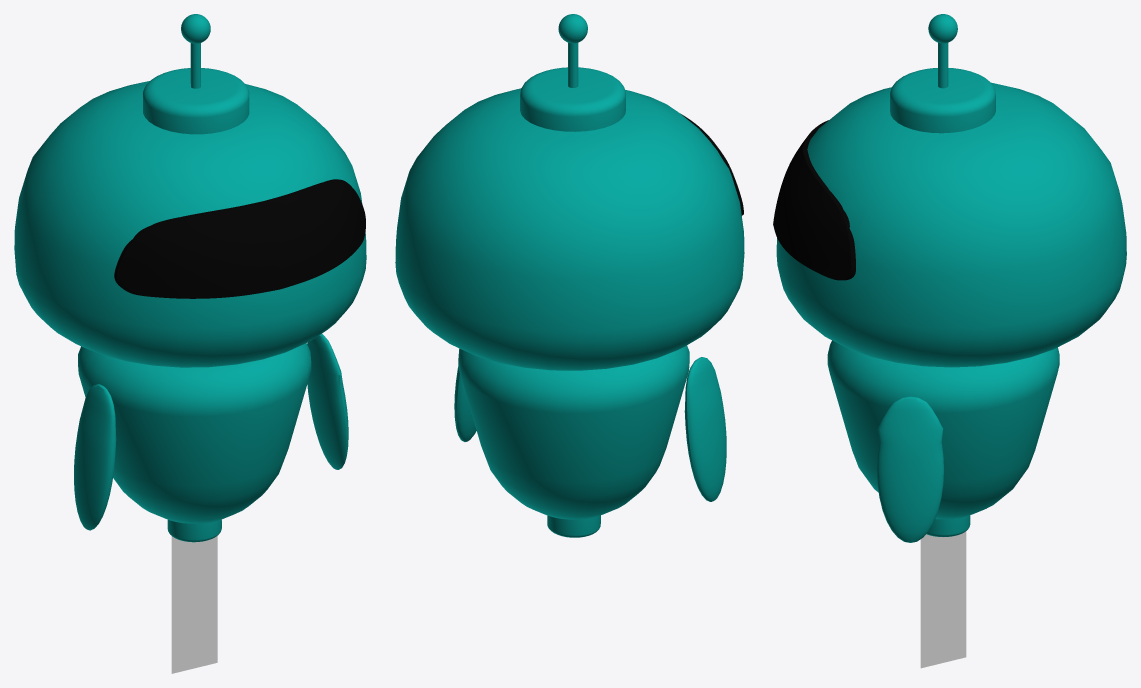
The model's file is cleaned_beepie_animated.glb.
The picture shows the model from 3 angles, left to right: view 1: azimuth 30°, elevation 25°; view 2: azimuth 150°, elevation 25°; view 3: azimuth 270°, elevation 25°; orthographic projection.
Visible parts, largest first — view 1: Sphere.002, Cylinder.004, display_glass, thruster_plane_1, Sphere.005, Sphere.001, Sphere.003, Sphere.007, Sphere.009; view 2: Sphere.002, Cylinder.004, Sphere.005, Sphere.001, Sphere.007, Sphere.003, Sphere.009; view 3: Sphere.002, Cylinder.004, Sphere.003, display_glass, thruster_plane_3, Sphere.005, Sphere.007, Sphere.009.
Part boxes in pixels (<box>): Sphere.002: <box>14,81,366,367</box>; Cylinder.004: <box>78,343,311,523</box>; display_glass: <box>114,179,365,298</box>; thruster_plane_1: <box>171,536,217,673</box>; Sphere.005: <box>142,68,249,134</box>; Sphere.001: <box>74,384,116,530</box>; Sphere.003: <box>307,334,348,469</box>; Sphere.007: <box>181,14,210,88</box>; Sphere.009: <box>167,519,221,542</box>; Sphere.002: <box>395,88,744,370</box>; Cylinder.004: <box>458,345,689,519</box>; Sphere.005: <box>520,67,625,131</box>; Sphere.001: <box>684,357,726,501</box>; Sphere.007: <box>558,14,587,87</box>; Sphere.003: <box>454,367,476,441</box>; Sphere.009: <box>547,515,600,537</box>; Sphere.002: <box>776,82,1126,367</box>; Cylinder.004: <box>827,340,1059,519</box>; Sphere.003: <box>877,396,943,542</box>; display_glass: <box>773,120,855,280</box>; thruster_plane_3: <box>920,531,966,668</box>; Sphere.005: <box>890,68,995,133</box>; Sphere.007: <box>928,14,957,88</box>; Sphere.009: <box>926,515,970,536</box>.
Size of the model in its own units: 1.98 by 4.05 by 2.
